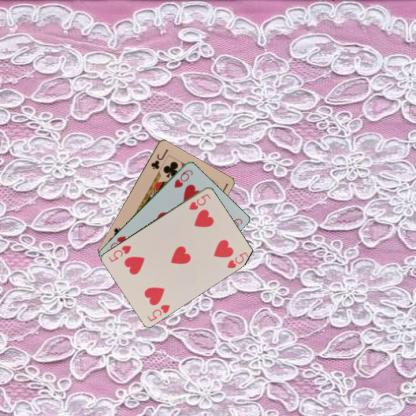5h: (144, 302, 171, 322), (186, 191, 212, 211)
6h: (172, 167, 194, 189)
Jc: (148, 146, 170, 171)
